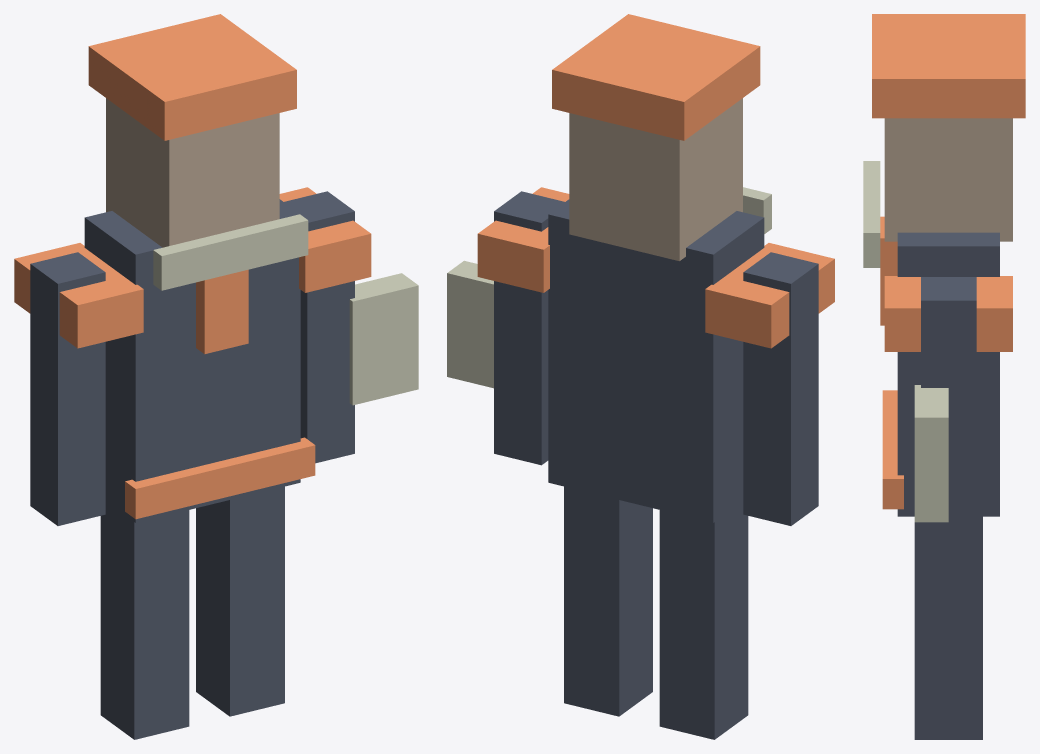
Rendered from 10_bryn_trenchmark_watcher_near_breach.glb.
3 renders of one model, left to right at view 1: azimuth 30°, elevation 25°; view 2: azimuth 150°, elevation 25°; view 3: azimuth 270°, elevation 25°, orthographic.
Visible parts, largest first — view 1: Bryn Trenchmark, Watcher near Breach; view 2: Bryn Trenchmark, Watcher near Breach; view 3: Bryn Trenchmark, Watcher near Breach.
Part boxes in pixels (x1,y1,x2,y2): Bryn Trenchmark, Watcher near Breach: (14, 14, 418, 739); Bryn Trenchmark, Watcher near Breach: (447, 14, 834, 739); Bryn Trenchmark, Watcher near Breach: (863, 14, 1025, 739).
Bounding box in the file's own units: 0.9345 × 1.63 × 0.3642.
